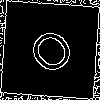O: (25, 25, 85, 85)
